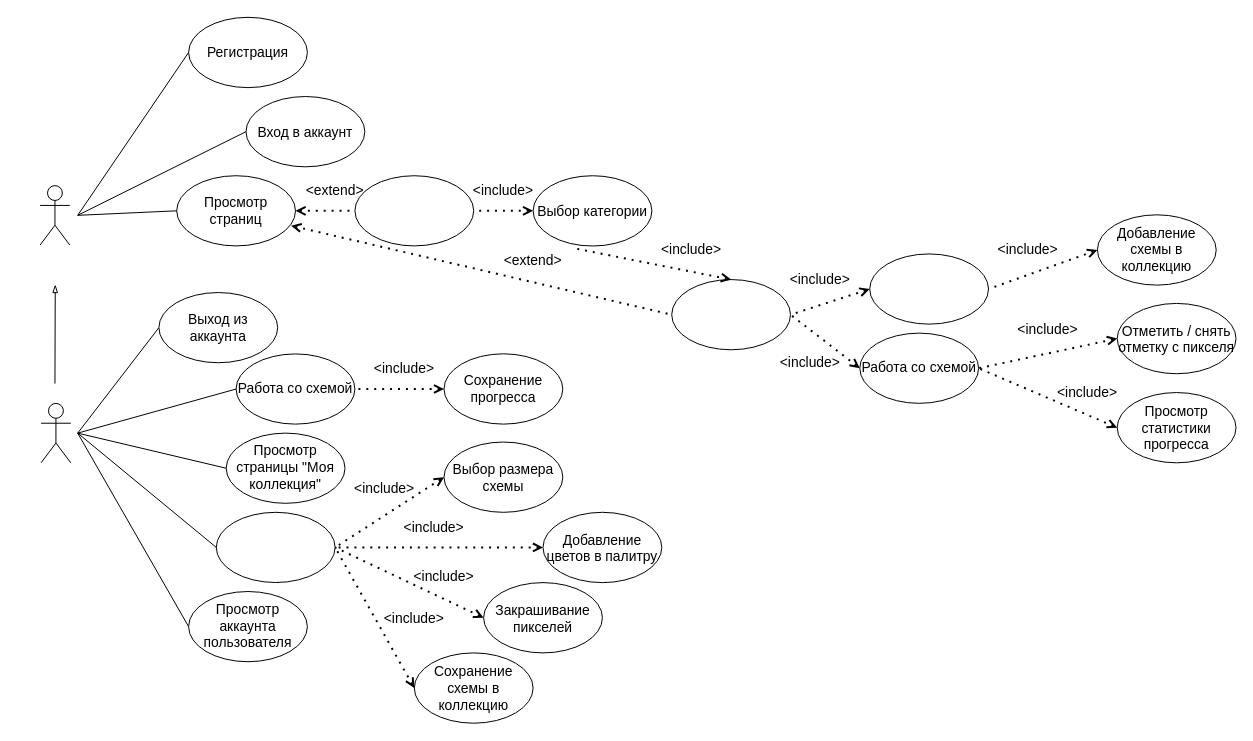
Some shapes in this 1253 by 741 pixel diagram are drawn without their labels. Each missing label, with the centre of its shape:
Гость: pixel 54 215
Пользователь: pixel 55 432
Просмотр главной страницы: pixel 414 210
Просмотр карточки схемы: pixel 929 288
Просмотр страницы "Все схемы": pixel 731 314
Создание схемы: pixel 275 547
